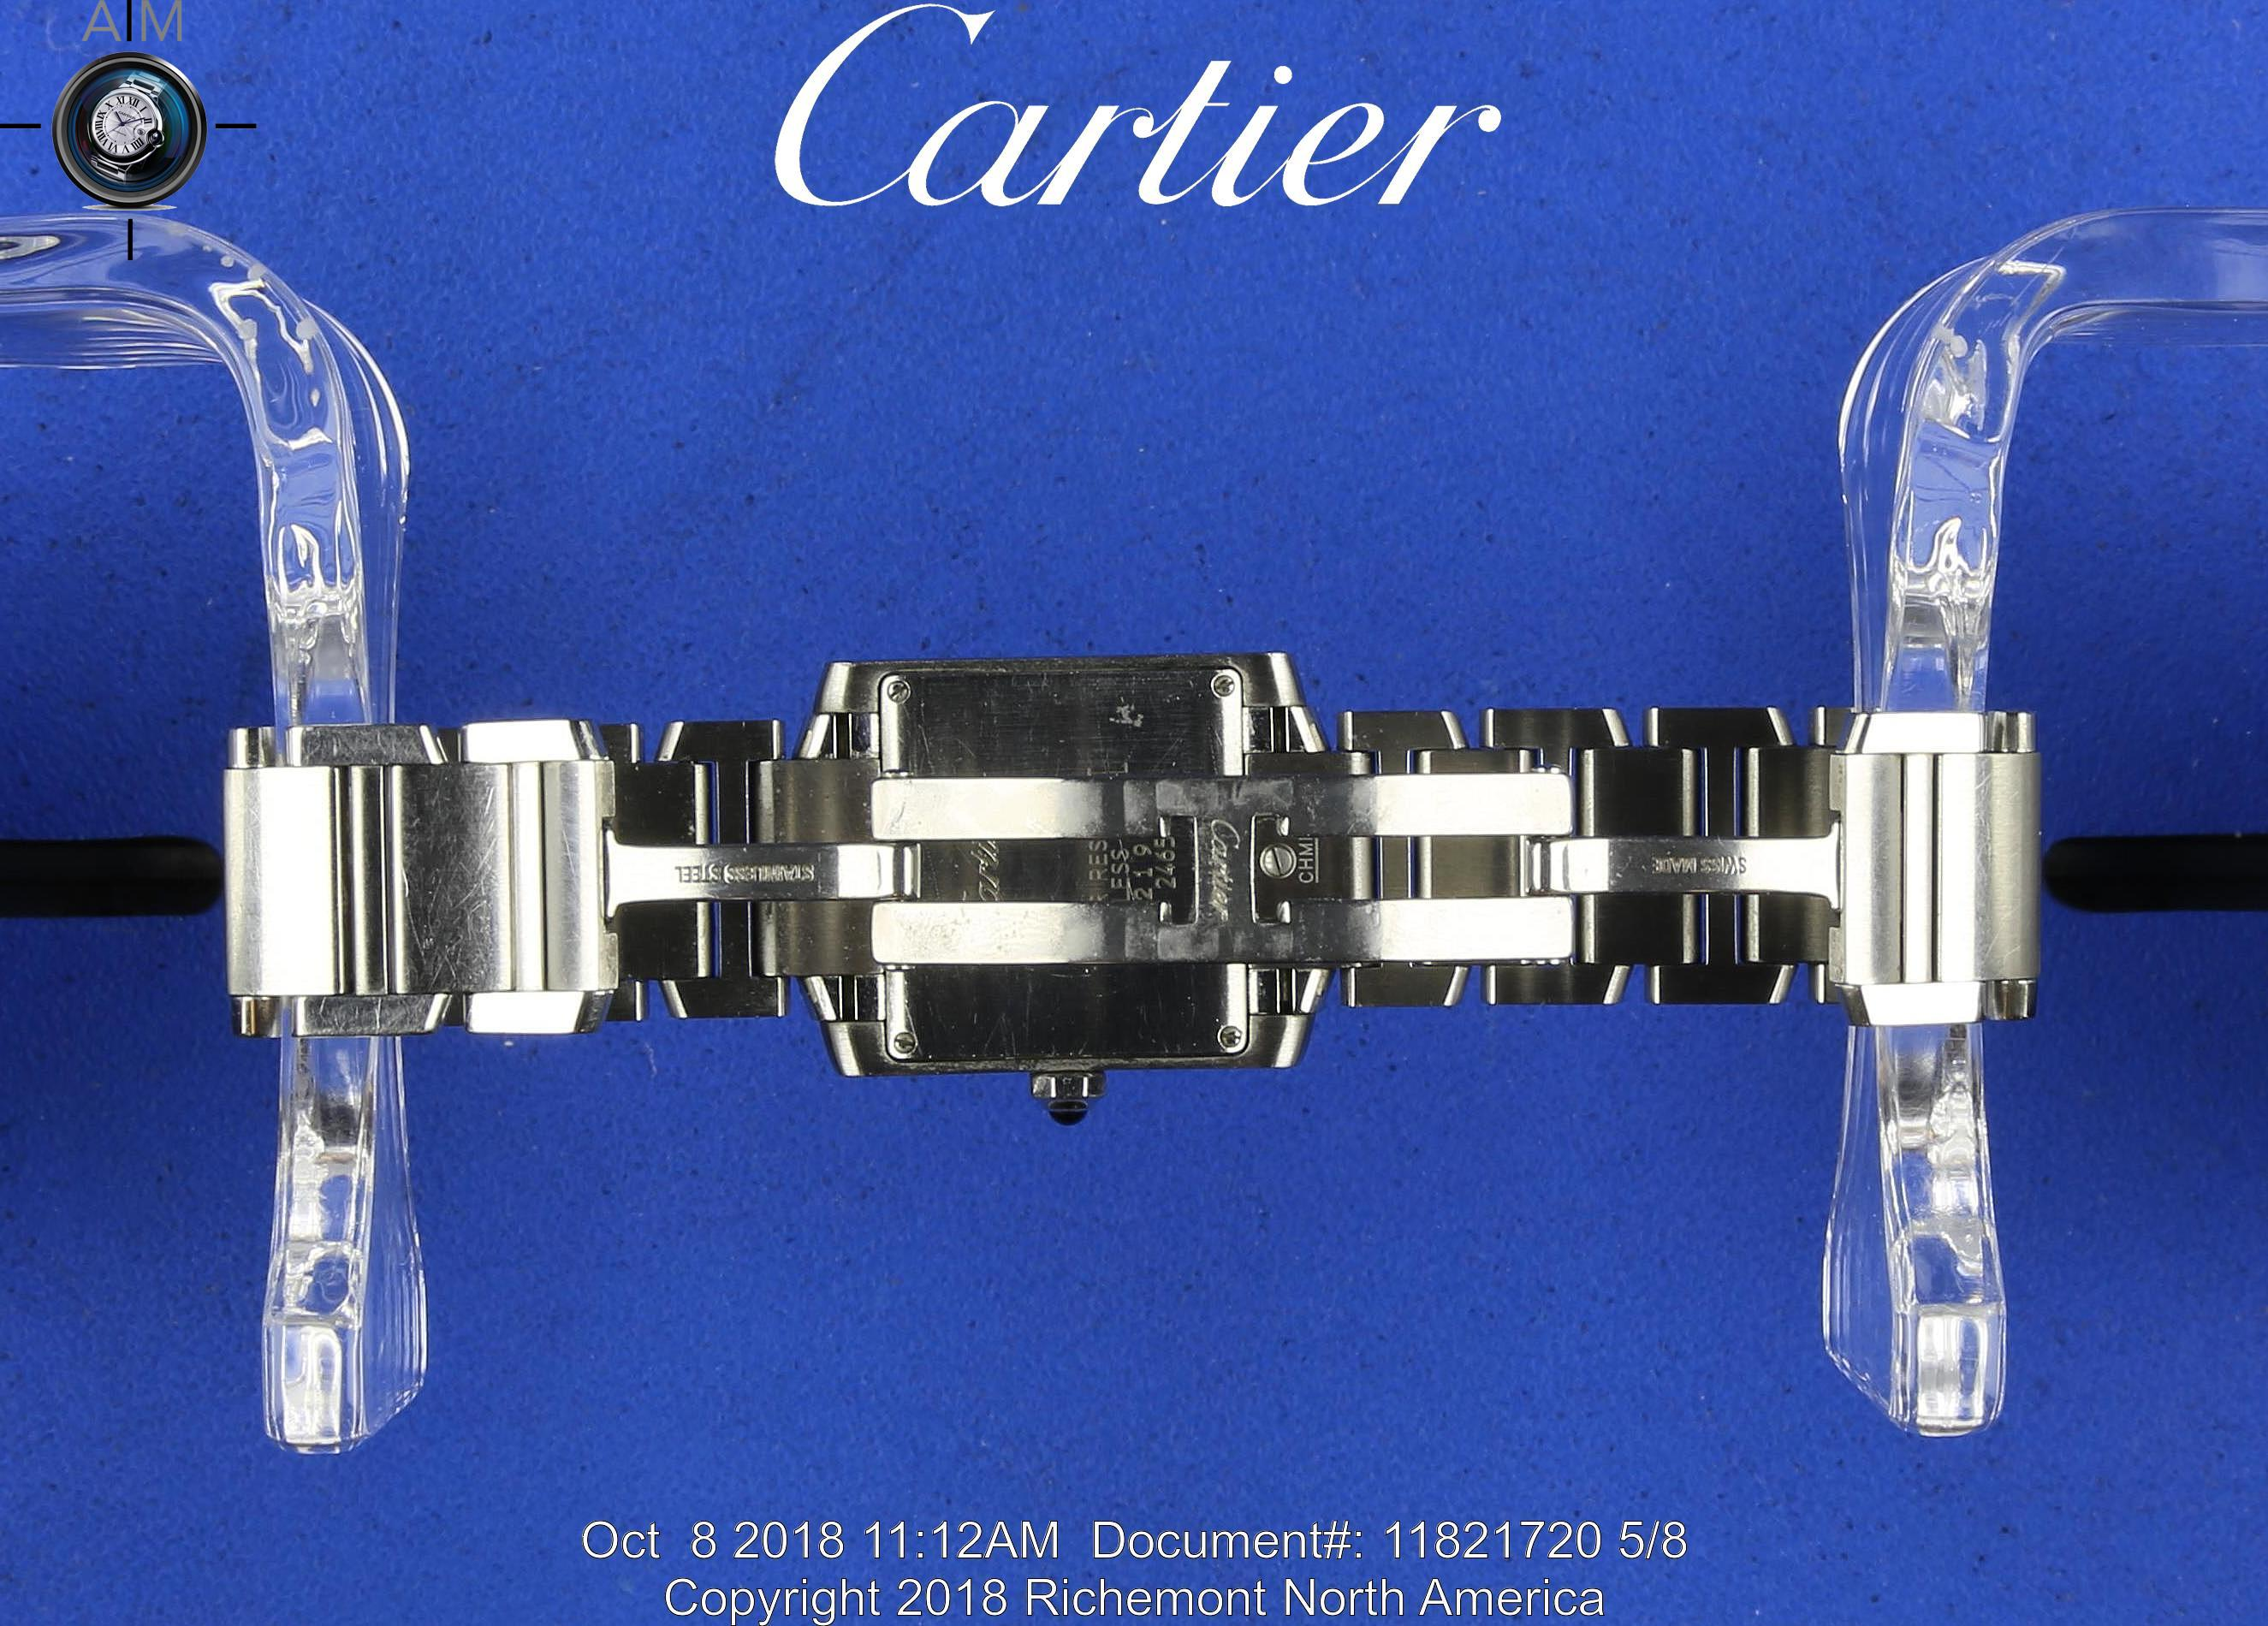watchback: (864, 667, 1265, 1052)
